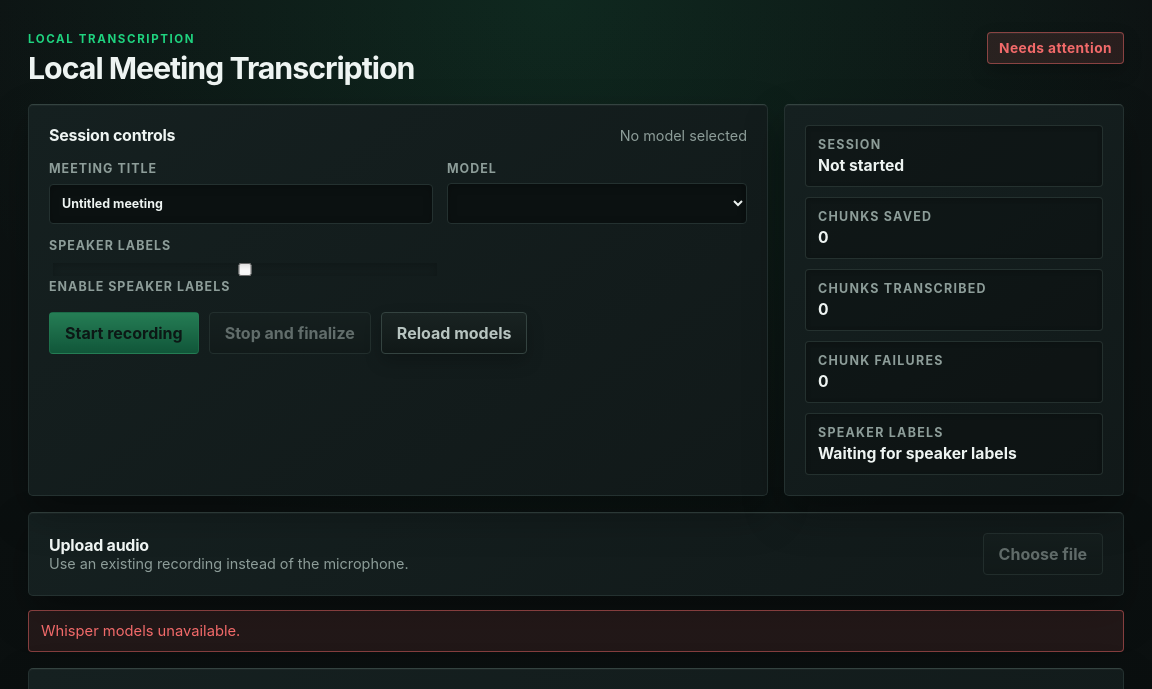
Test: App › shows a retry action when model loading fails and reloads models
The width and height of the screenshot is (1152, 689).
Check: the message "Whisper models unavailable." is shown, box x1=28 y1=610 x2=1124 y2=652
Click the button "Reload models" at [454, 333], box x1=381 y1=312 x2=527 y2=354
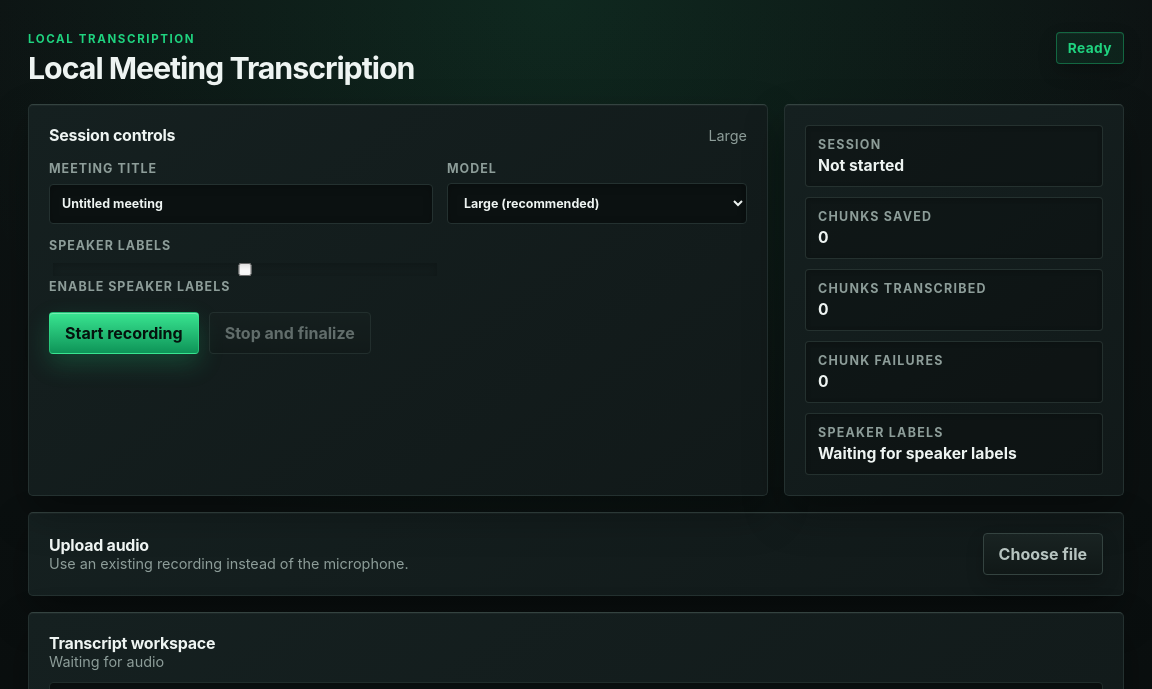
Check: the dropdown labelled "Model" shows "Large (recommended)", box x1=447 y1=183 x2=747 y2=224
Check: the button "Start recording" is enabled, box x1=49 y1=312 x2=199 y2=354
